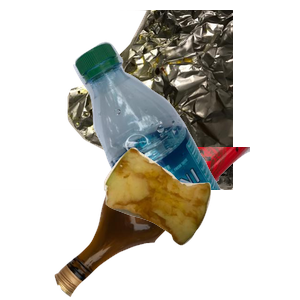glass: (52, 147, 292, 300)
metal: (60, 10, 300, 190)
plastic: (71, 39, 300, 219)
trash: (101, 145, 300, 300)
